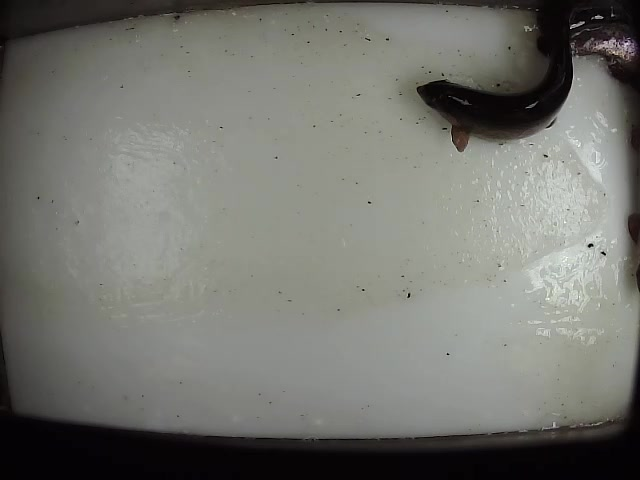fish: (414, 4, 577, 155)
